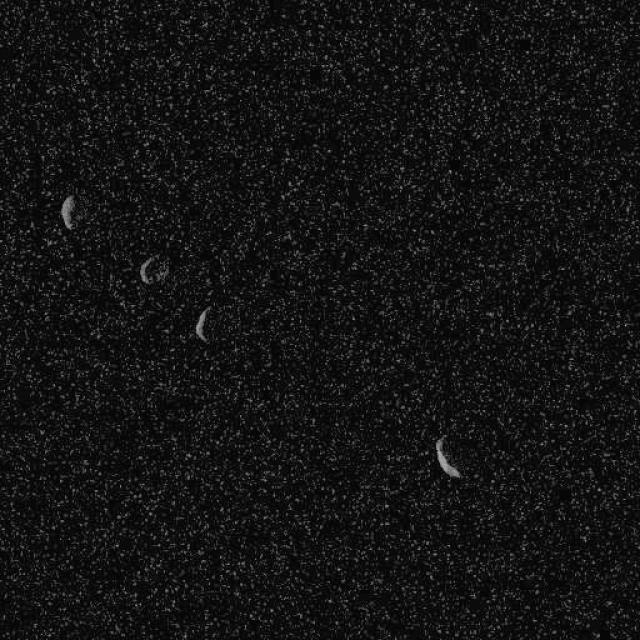D2: (433, 434, 462, 480), (139, 254, 169, 285), (194, 305, 211, 343), (59, 194, 76, 230)
